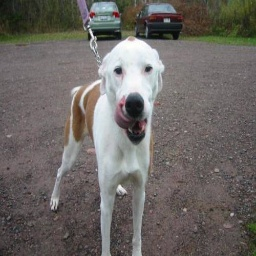dog: (42, 33, 166, 256)
